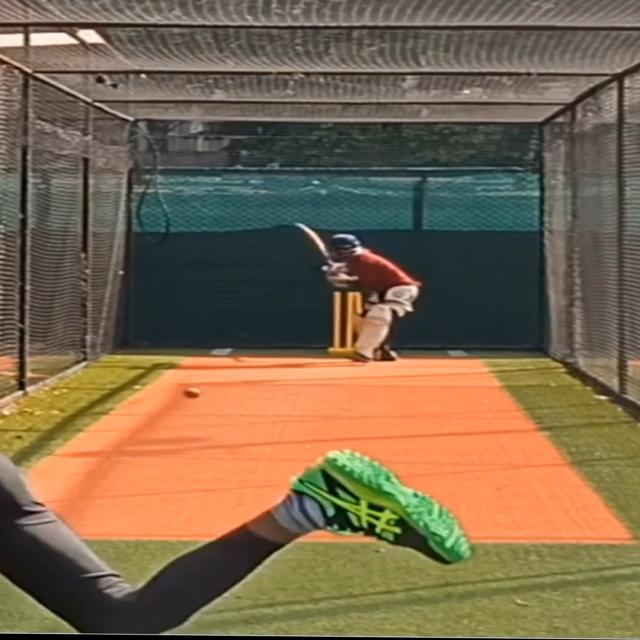ball: (181, 384, 205, 400)
stump: (331, 290, 363, 355)
